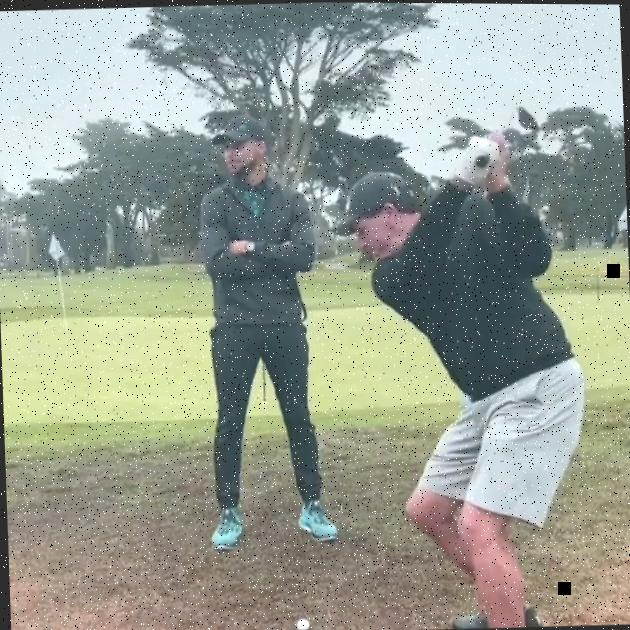ClubHead: (518, 104, 538, 130)
GolfBall: (296, 619, 308, 630)
